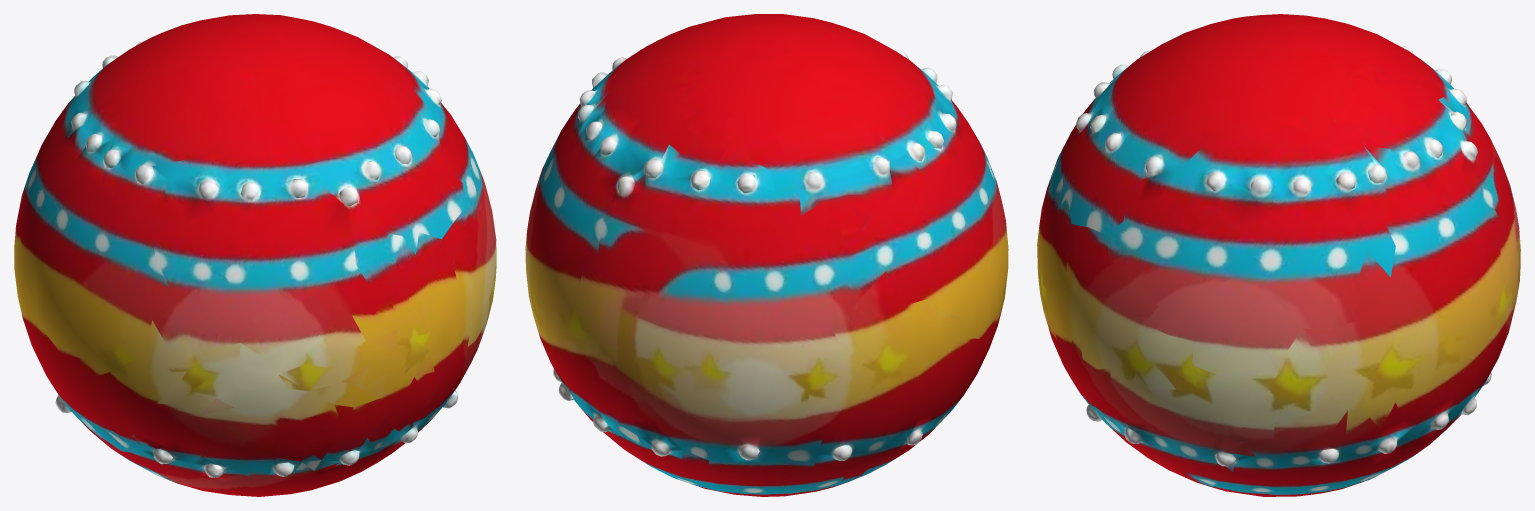
Rendered from ballon_cirque.glb.
3 views of the same model, side by side, from view 1: azimuth 30°, elevation 25°; view 2: azimuth 150°, elevation 25°; view 3: azimuth 270°, elevation 25° (orthographic).
Parts seen in each view (by area): view 1: LOD0; view 2: LOD0; view 3: LOD0.
Part boxes in pixels (x1,y1,x2,y2): LOD0: (14,14,496,496); LOD0: (525,14,1008,496); LOD0: (1037,14,1520,496).
Size of what is drawn, in the model's own units: 1.15 by 1.16 by 1.16.
Materials: 1 (1 with a texture image).
